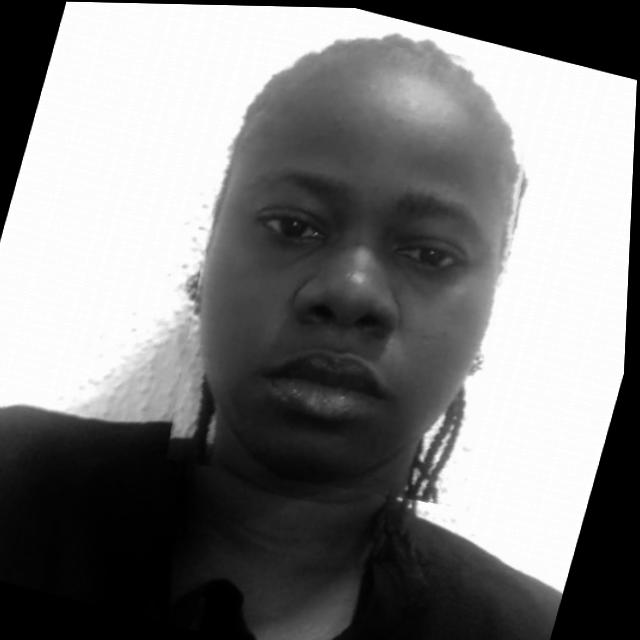sad: (140, 3, 572, 524)
